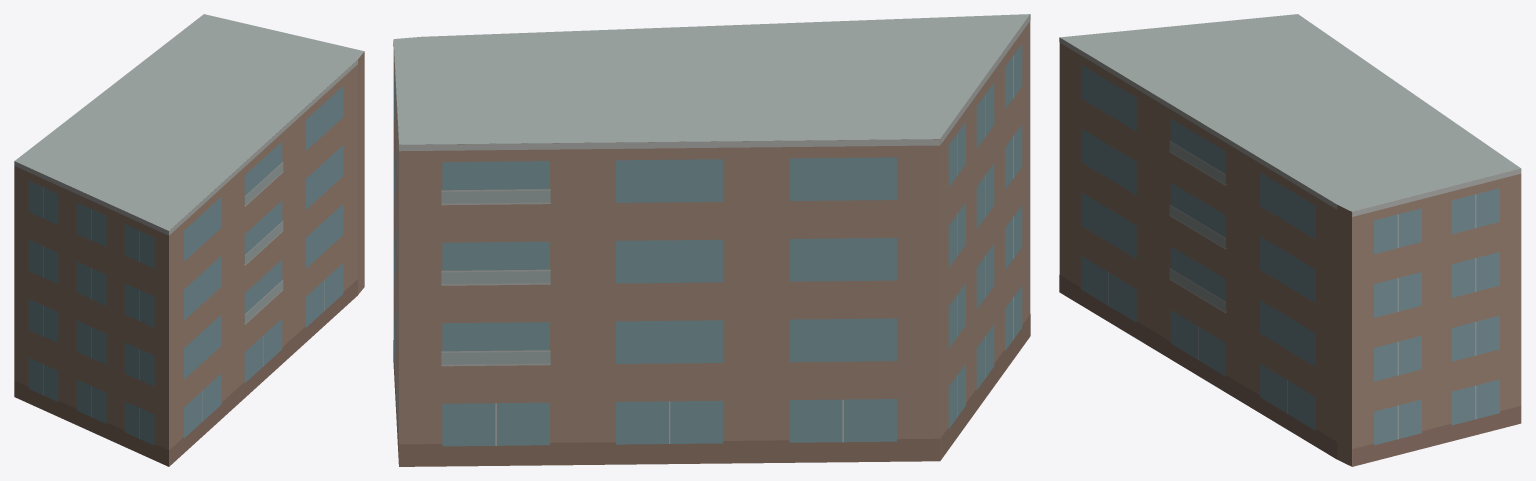
File: survey-upis-32644076.glb
3 views of the same model, side by side, from view 1: azimuth 30°, elevation 25°; view 2: azimuth 150°, elevation 25°; view 3: azimuth 270°, elevation 25° (orthographic). The views are drawn at different scales.
Parts seen in each view (by area): view 1: survey-upis-32644076.tmp; view 2: survey-upis-32644076.tmp; view 3: survey-upis-32644076.tmp.
Part boxes in pixels (x1,y1,x2,y2): survey-upis-32644076.tmp: [14, 14, 364, 466]; survey-upis-32644076.tmp: [393, 14, 1030, 466]; survey-upis-32644076.tmp: [1059, 14, 1521, 466].
Bounding box in the file's own units: 20.32 × 12.2 × 20.04.
